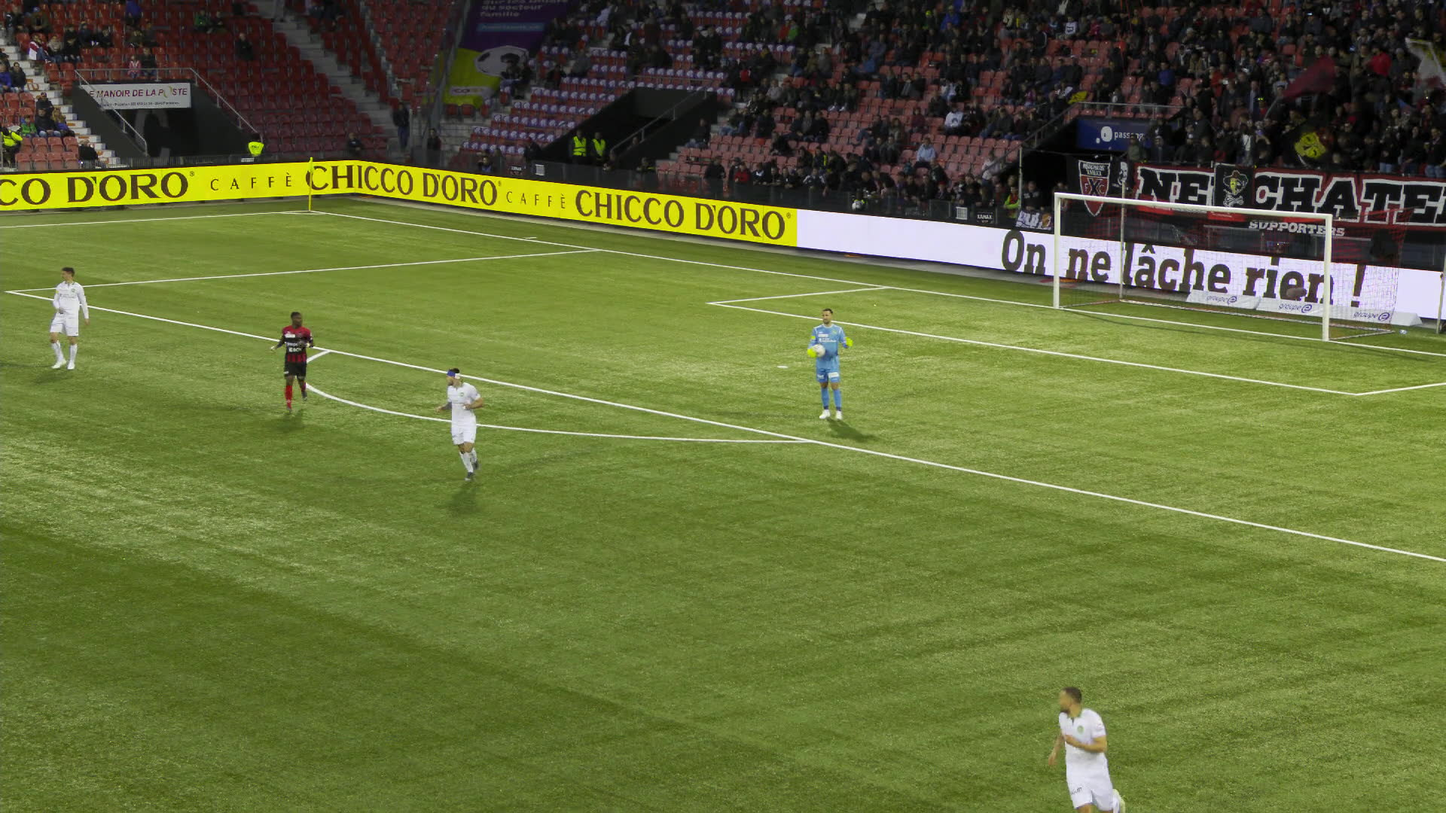ball: (810, 345, 821, 357)
player: (1050, 681, 1123, 812), (804, 308, 856, 420), (435, 369, 483, 483), (47, 267, 89, 370), (275, 309, 316, 410)
